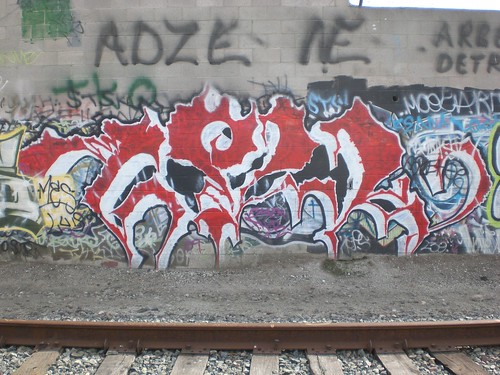graffiti: (36, 94, 494, 266), (82, 6, 253, 75), (290, 8, 382, 71), (429, 22, 500, 74)
train track: (19, 269, 500, 375)
wall: (12, 4, 493, 265)
